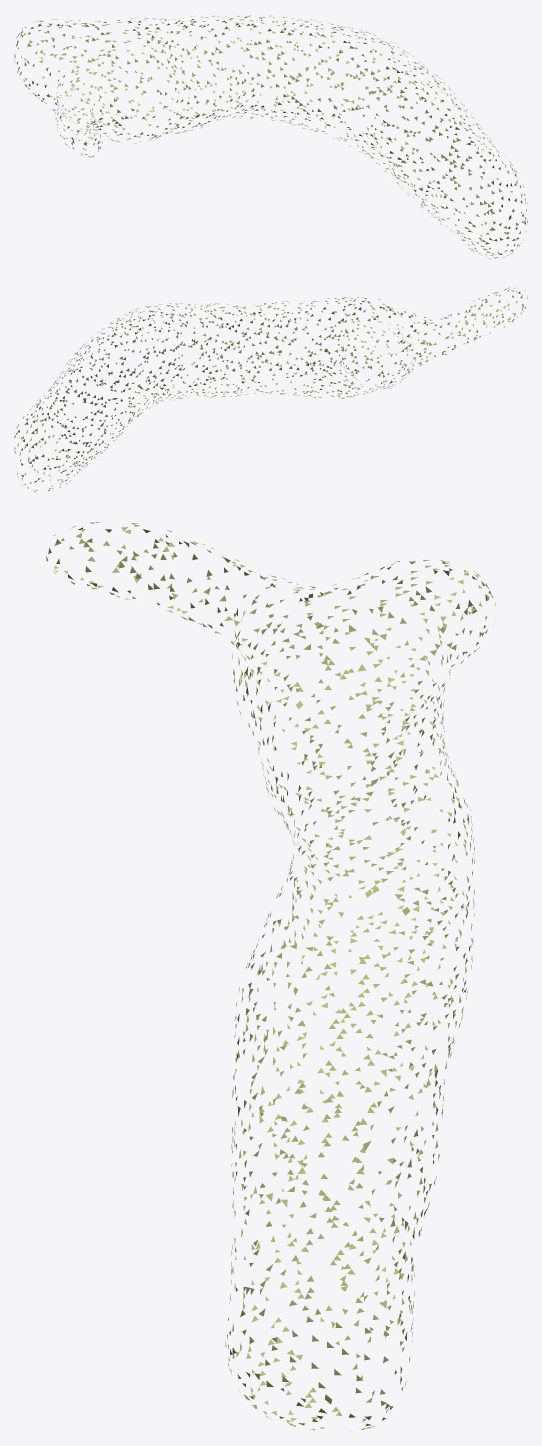
The model's file is morph_010.glb.
3 views of the same model, one above another, from view 1: azimuth 30°, elevation 25°; view 2: azimuth 150°, elevation 25°; view 3: azimuth 270°, elevation 25° (orthographic). The views are drawn at different scales.
Size of the model in its own units: 98.53 by 56.5 by 44.02.
